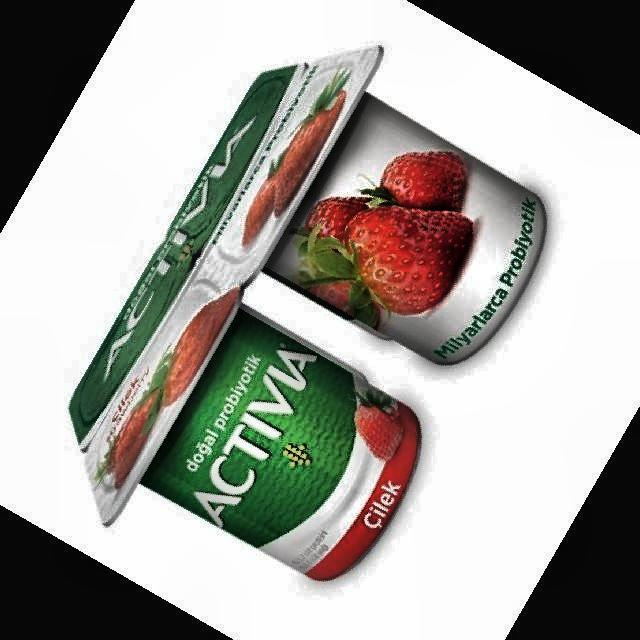plastic: (69, 48, 545, 579)
